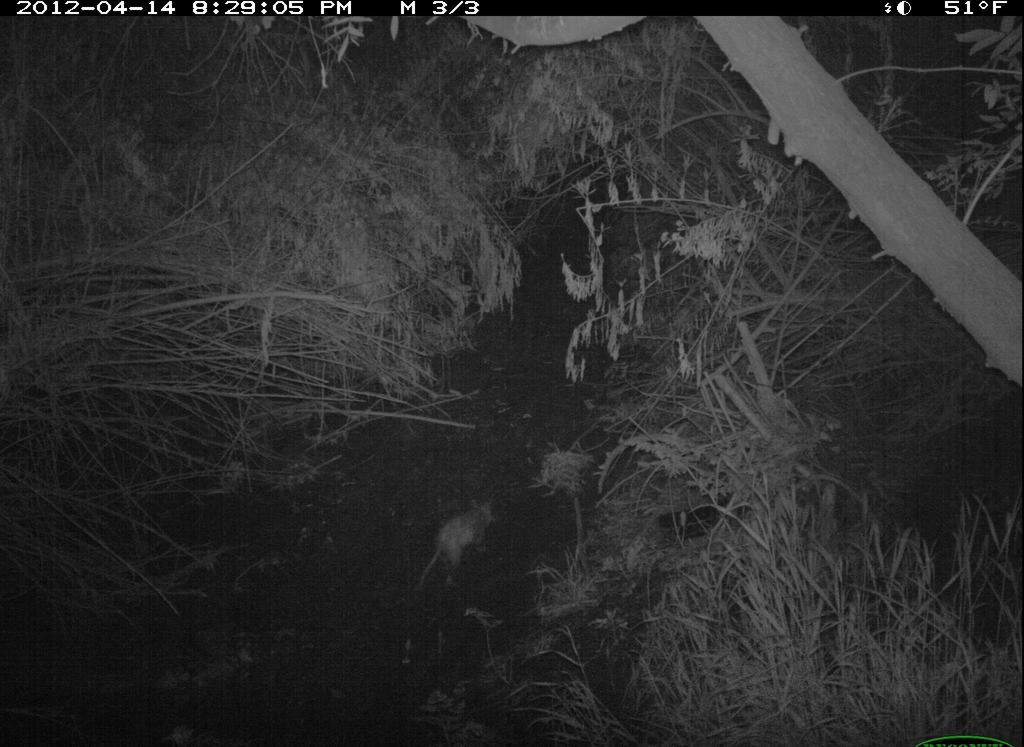opossum: (413, 489, 504, 597)
